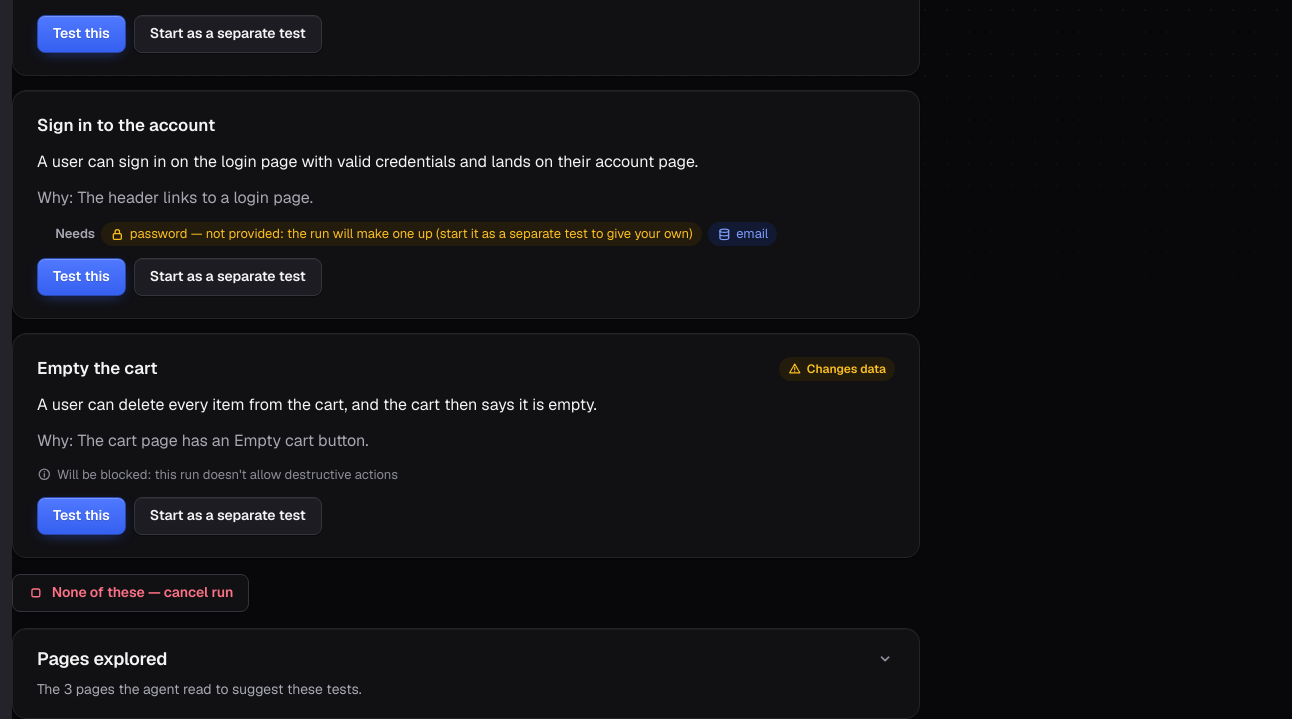
Test: SuggestionReview › lists the pages it explored under a disclosure
The image size is (1292, 719).
(page scrolled)
Click the button "Pages explored": (102, 658) [13, 629, 919, 689]
(page scrolled)
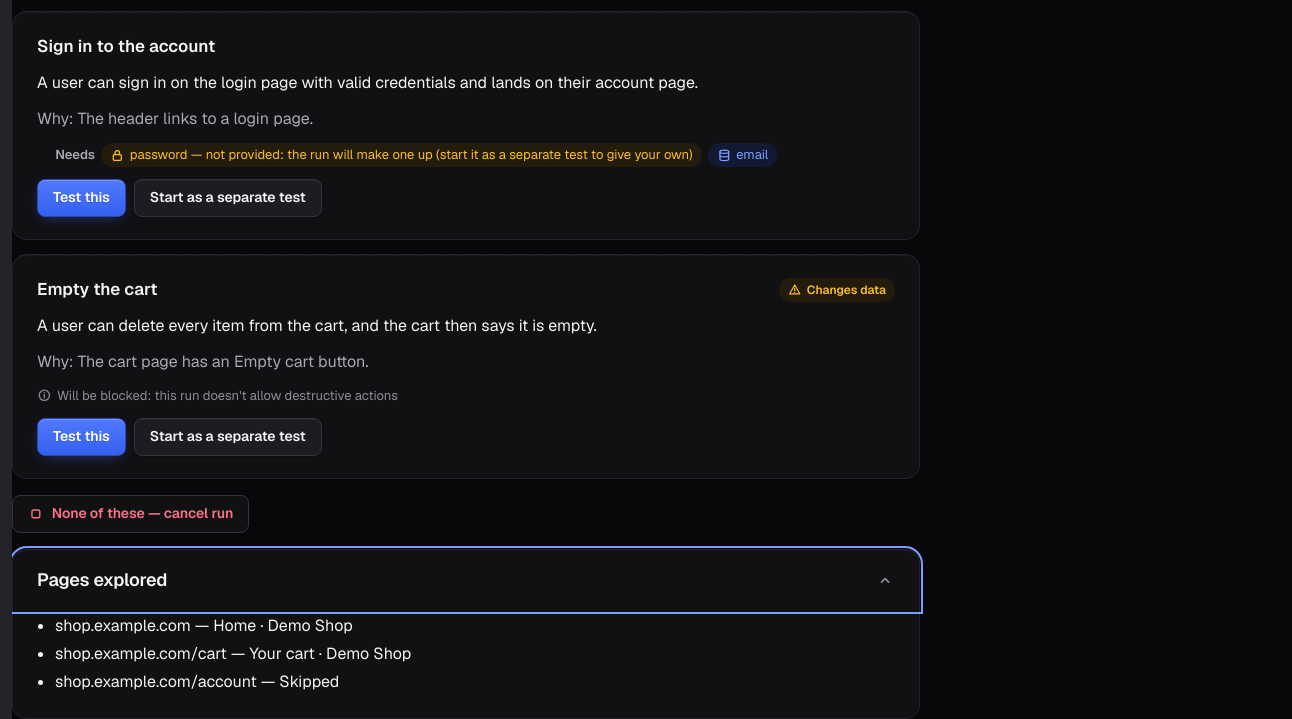
Now the list item "shop.example.com/cart — Your cart · Demo Shop" is shown, box [55, 643, 411, 664]
Now the list item "shop.example.com/account — Skipped" is shown, box [55, 671, 339, 692]
